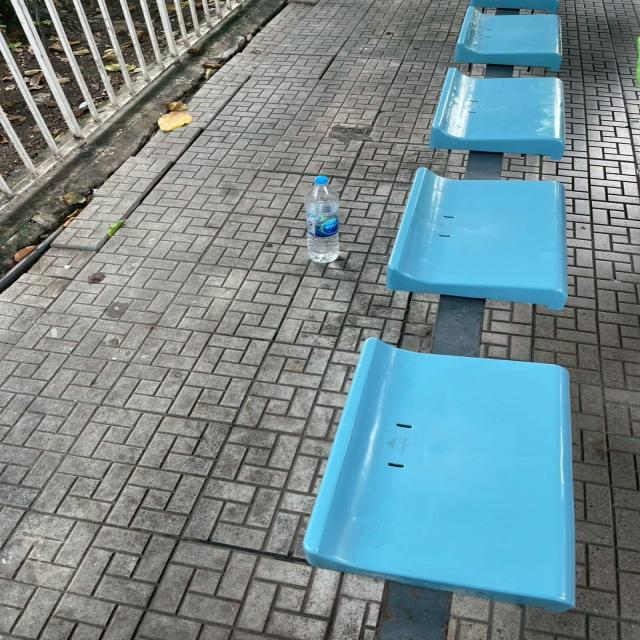plastic bottle: (301, 173, 347, 264)
